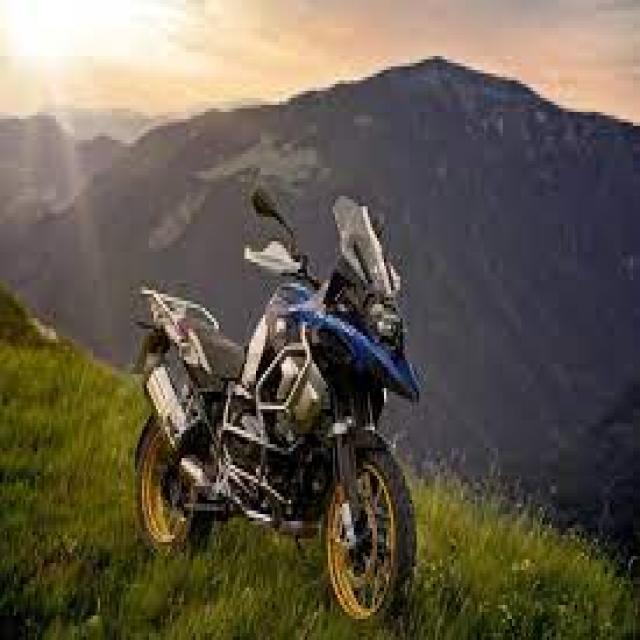Bike: (130, 184, 422, 636)
